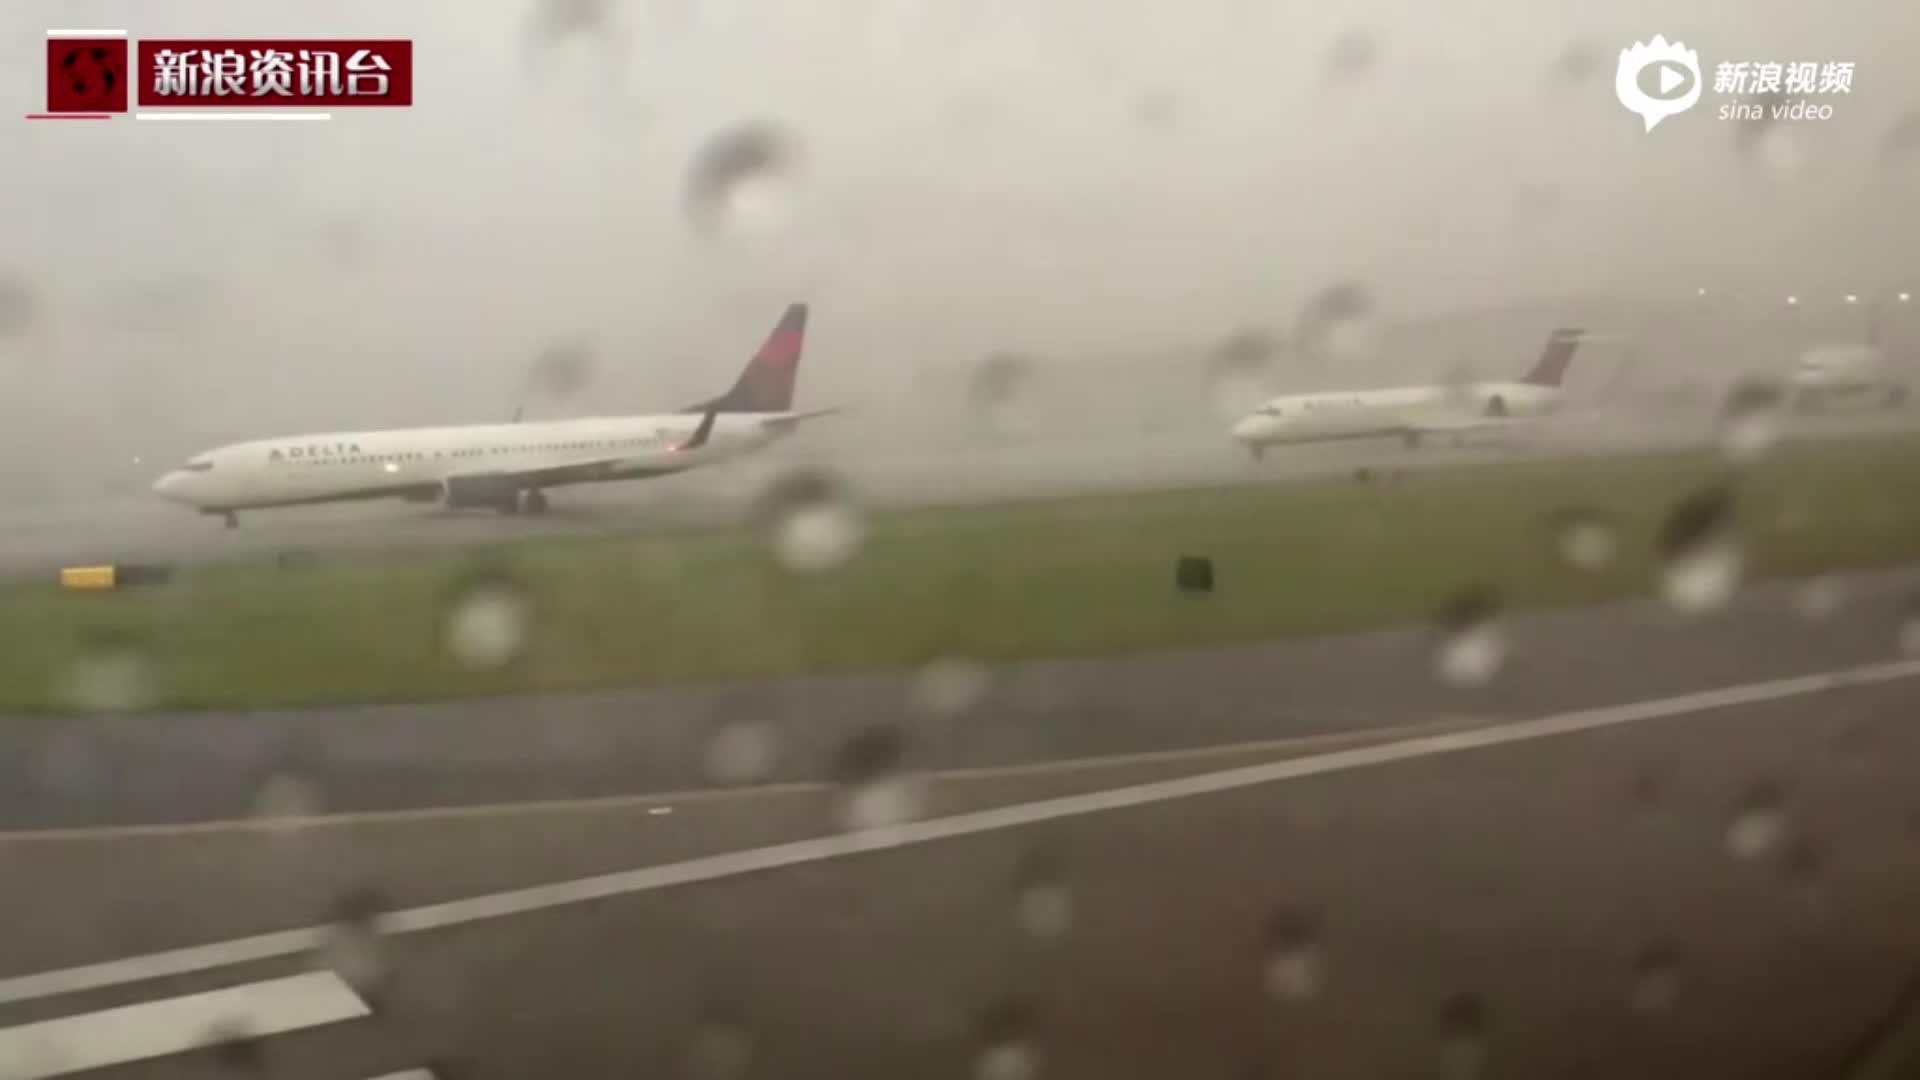airplane: (146, 301, 853, 545), (1203, 324, 1592, 480)
